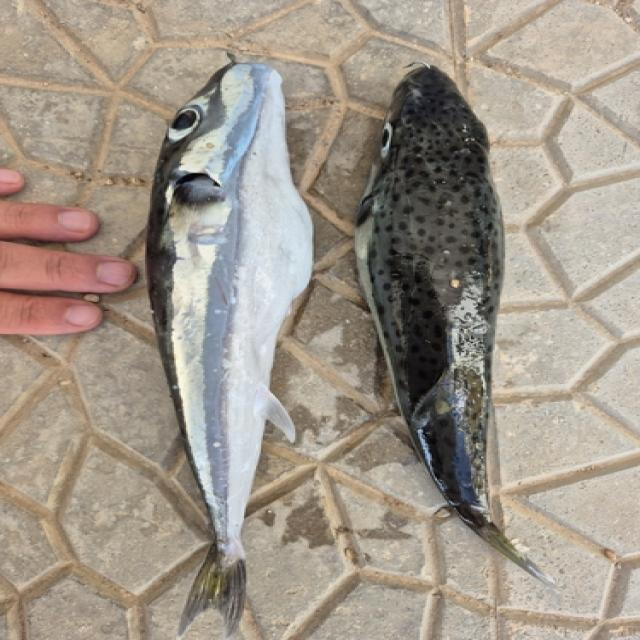Balik: (355, 63, 554, 586), (147, 62, 312, 637)
